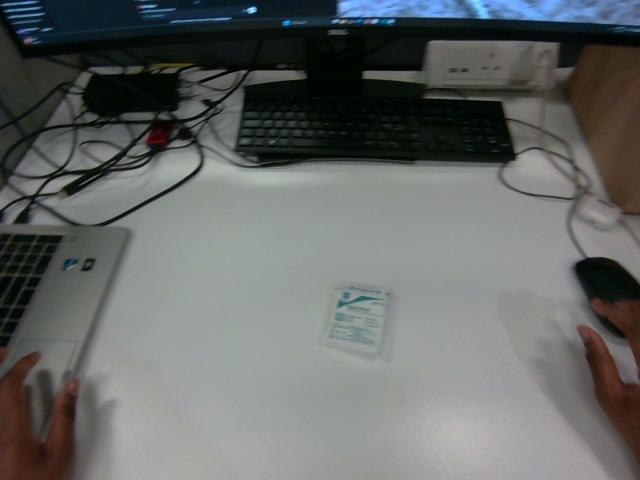gauze: (322, 284, 390, 357)
